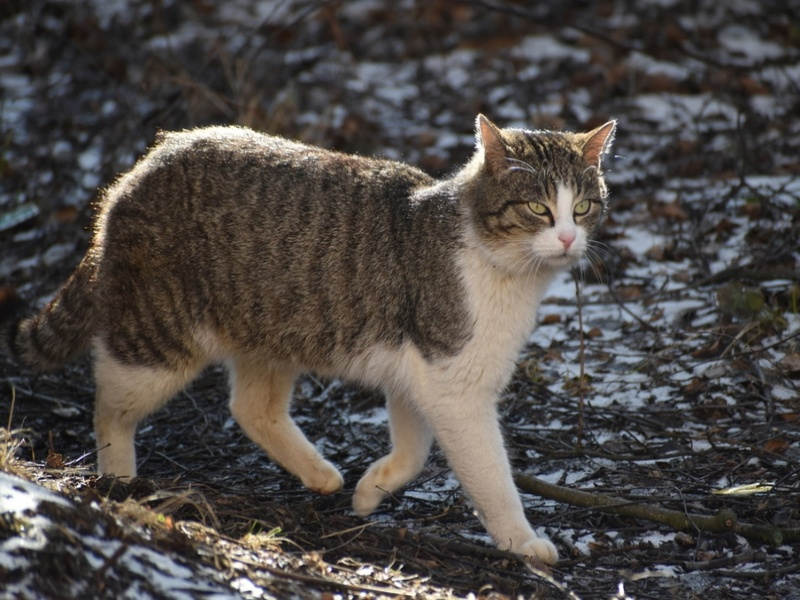cat: (9, 61, 621, 571)
